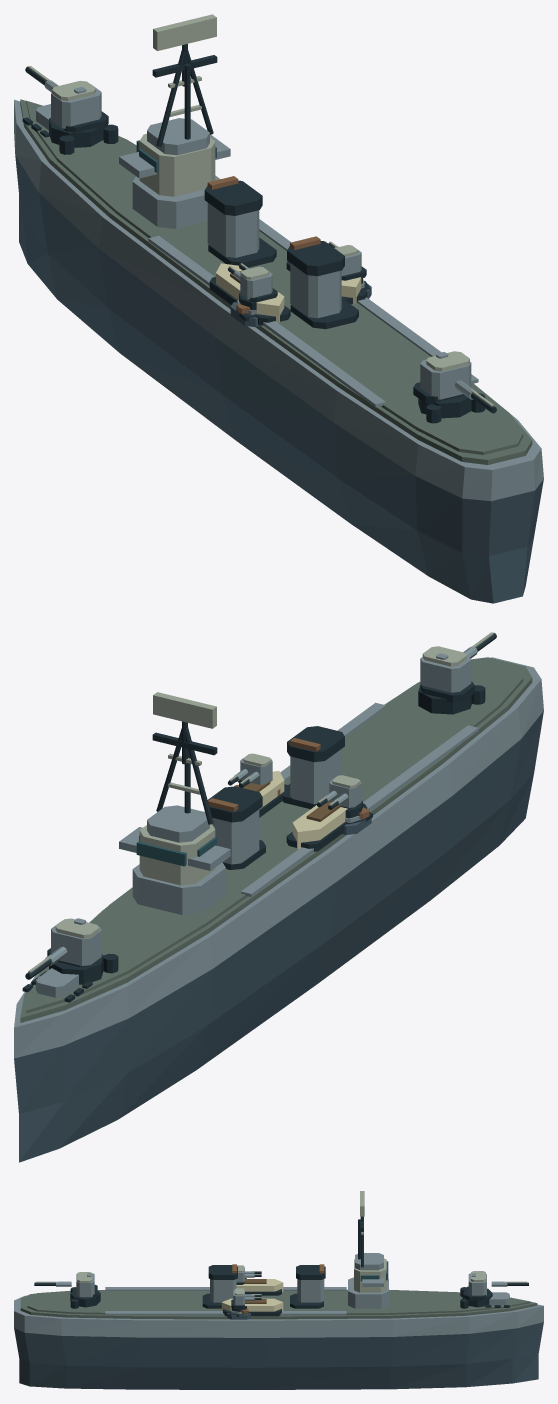
File: historic-mitscher.glb
3 renders of one model, top to bottom at view 1: azimuth 30°, elevation 25°; view 2: azimuth 150°, elevation 25°; view 3: azimuth 270°, elevation 25°, orthographic. The views are drawn at different scales.
Visible parts, largest first — view 1: historic-mitscher-historic-mitscher-geometry, historic-mitscher-part_bridge.136-geometry, historic-mitscher-historic_funnel_1.074-geometry, historic-mitscher-historic_funnel_0.129-geometry, historic-mitscher-turret_main_0.105-geometry, historic-mitscher-turret_main_1.098-geometry, historic-mitscher-turret_aa_aa-port.138-geometry, historic-mitscher-turret_aa_aa-starboard.134-geometry; view 2: historic-mitscher-historic-mitscher-geometry, historic-mitscher-part_bridge.136-geometry, historic-mitscher-historic_funnel_1.074-geometry, historic-mitscher-turret_main_1.098-geometry, historic-mitscher-historic_funnel_0.129-geometry, historic-mitscher-turret_main_0.105-geometry, historic-mitscher-turret_aa_aa-port.138-geometry, historic-mitscher-turret_aa_aa-starboard.134-geometry; view 3: historic-mitscher-historic-mitscher-geometry, historic-mitscher-part_bridge.136-geometry, historic-mitscher-historic_funnel_0.129-geometry, historic-mitscher-historic_funnel_1.074-geometry, historic-mitscher-turret_main_0.105-geometry, historic-mitscher-turret_main_1.098-geometry, historic-mitscher-turret_aa_aa-starboard.134-geometry, historic-mitscher-turret_aa_aa-port.138-geometry.
Boxes of the visible parts, box(x1,y1,x2,y2) form: historic-mitscher-historic-mitscher-geometry: box(14, 99, 543, 603); historic-mitscher-part_bridge.136-geometry: box(119, 14, 230, 228); historic-mitscher-historic_funnel_1.074-geometry: box(287, 236, 358, 329); historic-mitscher-historic_funnel_0.129-geometry: box(204, 176, 276, 267); historic-mitscher-turret_main_0.105-geometry: box(25, 66, 108, 147); historic-mitscher-turret_main_1.098-geometry: box(413, 351, 496, 418); historic-mitscher-turret_aa_aa-port.138-geometry: box(228, 263, 277, 310); historic-mitscher-turret_aa_aa-starboard.134-geometry: box(328, 241, 366, 283); historic-mitscher-historic-mitscher-geometry: box(14, 657, 543, 1162); historic-mitscher-part_bridge.136-geometry: box(119, 692, 230, 914); historic-mitscher-historic_funnel_1.074-geometry: box(282, 726, 344, 809); historic-mitscher-turret_main_1.098-geometry: box(418, 632, 496, 714); historic-mitscher-historic_funnel_0.129-geometry: box(204, 786, 265, 869); historic-mitscher-turret_main_0.105-geometry: box(25, 918, 103, 984); historic-mitscher-turret_aa_aa-port.138-geometry: box(316, 775, 362, 818); historic-mitscher-turret_aa_aa-starboard.134-geometry: box(228, 753, 272, 787); historic-mitscher-historic-mitscher-geometry: box(14, 1279, 543, 1389); historic-mitscher-part_bridge.136-geometry: box(348, 1191, 388, 1308); historic-mitscher-historic_funnel_0.129-geometry: box(290, 1264, 325, 1308); historic-mitscher-historic_funnel_1.074-geometry: box(202, 1264, 237, 1308); historic-mitscher-turret_main_0.105-geometry: box(462, 1271, 528, 1307); historic-mitscher-turret_main_1.098-geometry: box(34, 1272, 100, 1307); historic-mitscher-turret_aa_aa-starboard.134-geometry: box(231, 1288, 261, 1311); historic-mitscher-turret_aa_aa-port.138-geometry: box(236, 1265, 261, 1284).
Bounding box in the file's own units: 0.6122 × 1.55 × 4.11.
